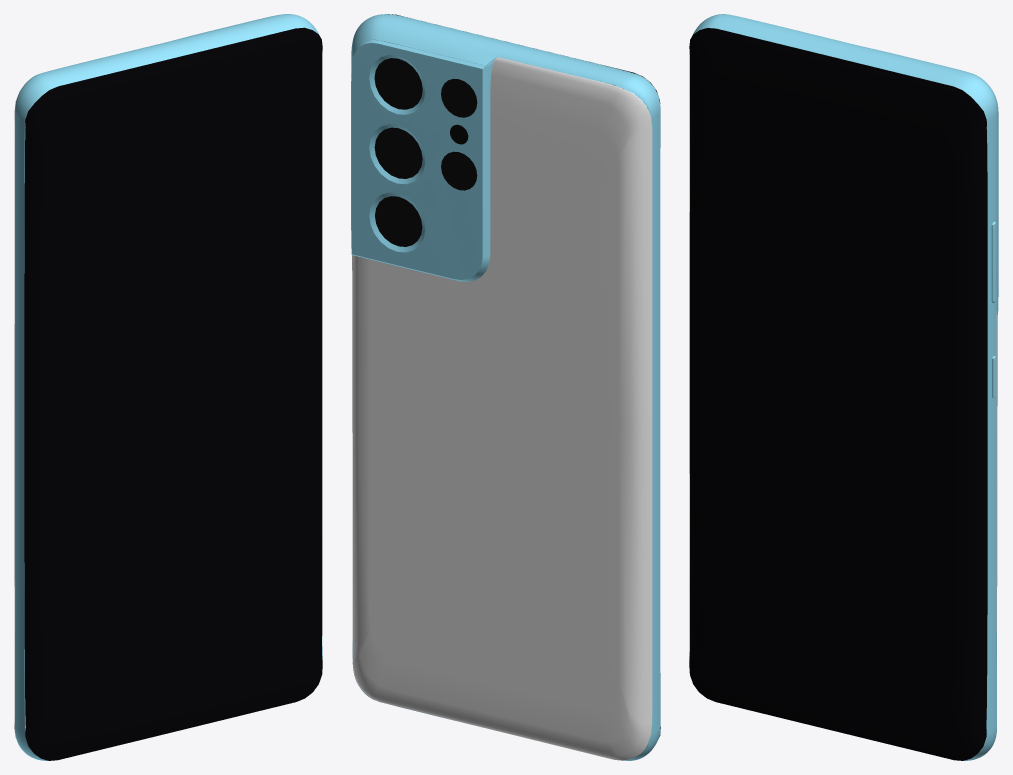
The model's file is blue_white.glb.
3 renders of one model, left to right at view 1: azimuth 30°, elevation 25°; view 2: azimuth 150°, elevation 25°; view 3: azimuth 330°, elevation 25°, orthographic.
Parts seen in each view (by area): view 1: uploads-files-2943098-samsung+galaxy+s21+ultra; view 2: uploads-files-2943098-samsung+galaxy+s21+ultra; view 3: uploads-files-2943098-samsung+galaxy+s21+ultra.
Boxes of the visible parts, x1,y1,x2,y2 form: uploads-files-2943098-samsung+galaxy+s21+ultra: (14, 14, 322, 760); uploads-files-2943098-samsung+galaxy+s21+ultra: (351, 14, 660, 760); uploads-files-2943098-samsung+galaxy+s21+ultra: (689, 14, 998, 760).
Bounding box in the file's own units: 9.61 × 20.81 × 1.45.
